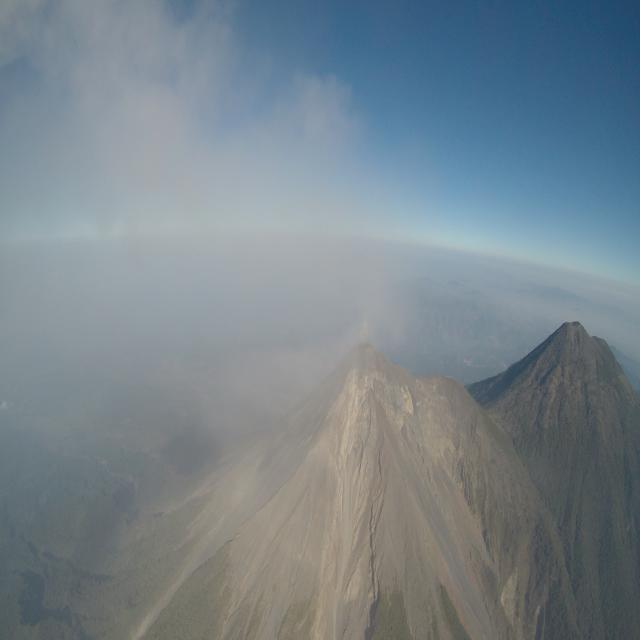Plume: (0, 0, 224, 226), (357, 315, 370, 342)
Summit: (310, 335, 414, 439)
